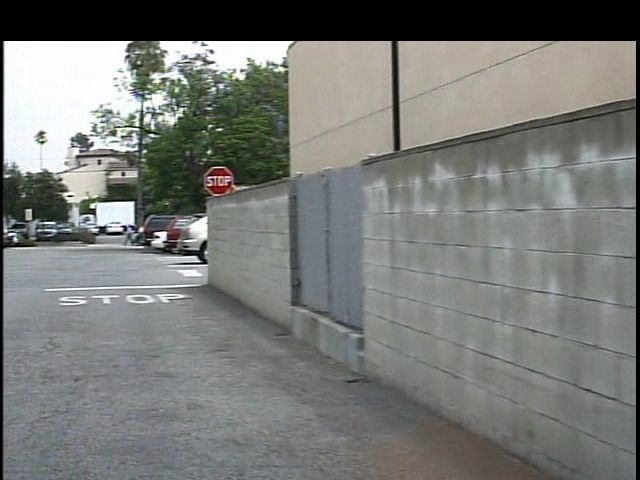person: (110, 224, 124, 250)
